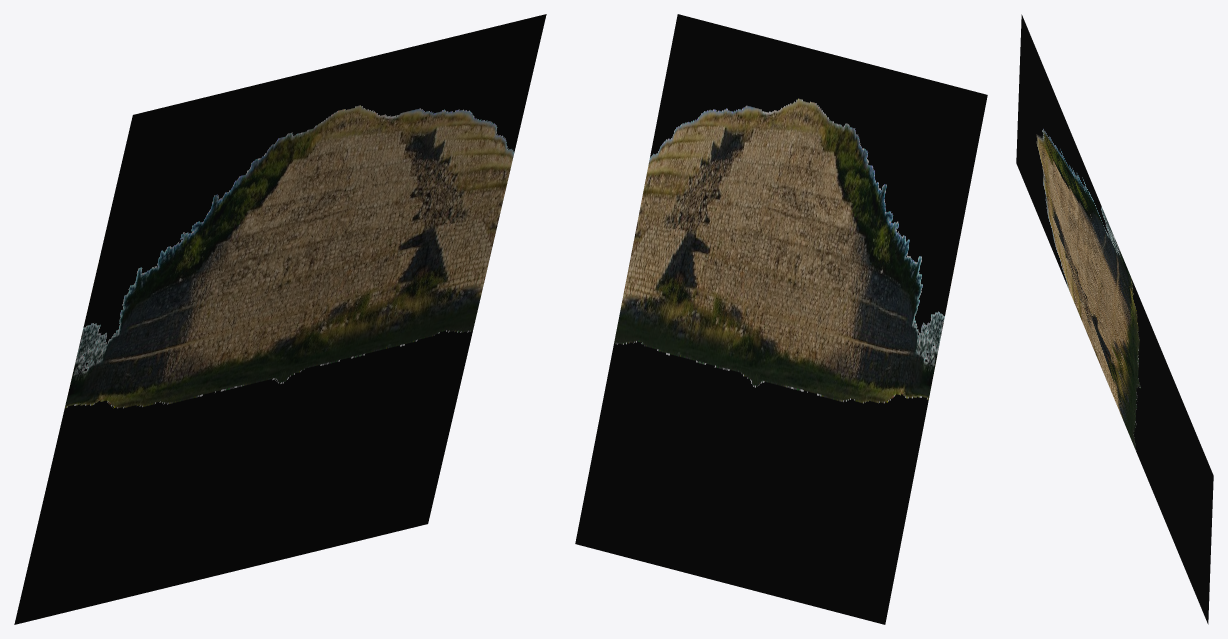
The model's file is Izamal.glb.
3 renders of one model, left to right at view 1: azimuth 30°, elevation 25°; view 2: azimuth 150°, elevation 25°; view 3: azimuth 270°, elevation 25°, orthographic. The views are drawn at different scales.
Parts seen in each view (by area): view 1: Mesh_0.004; view 2: Mesh_0.004; view 3: Mesh_0.004.
Part boxes in pixels (<box>): Mesh_0.004: <box>14,14,546,624</box>; Mesh_0.004: <box>575,14,987,624</box>; Mesh_0.004: <box>1016,14,1213,624</box>.
Size of the model in its own units: 13.53 by 18.81 by 7.29.
Materials: 1 (1 with a texture image).
